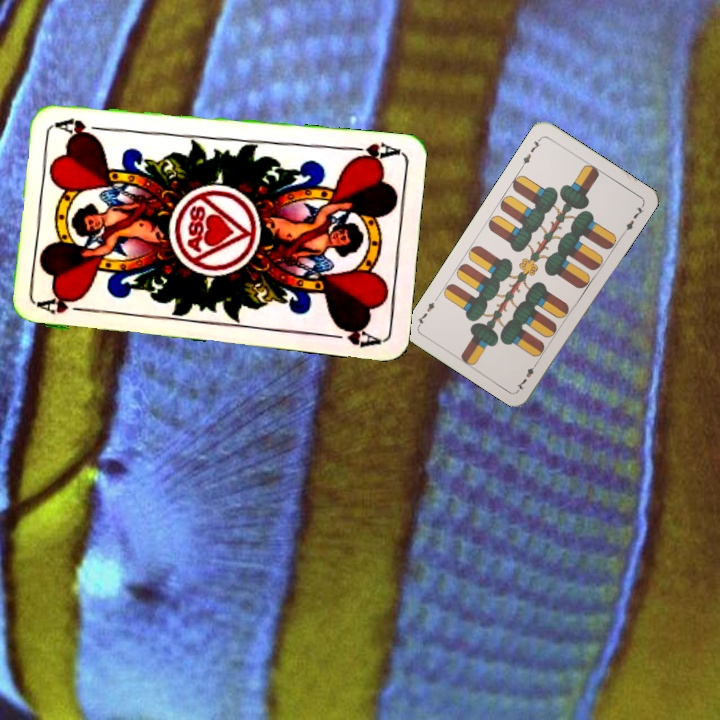E7: (512, 357, 541, 393), (517, 134, 544, 170)
HA: (342, 138, 401, 166), (35, 294, 95, 317)
